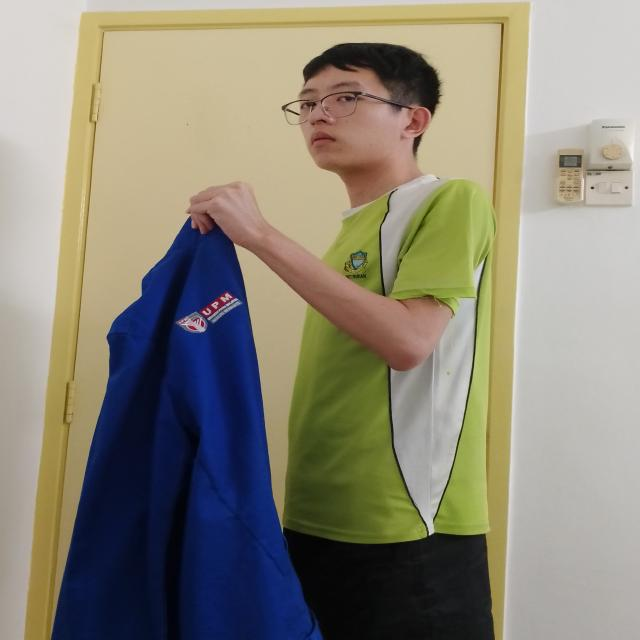person_without_labcoat: (52, 43, 495, 640)
